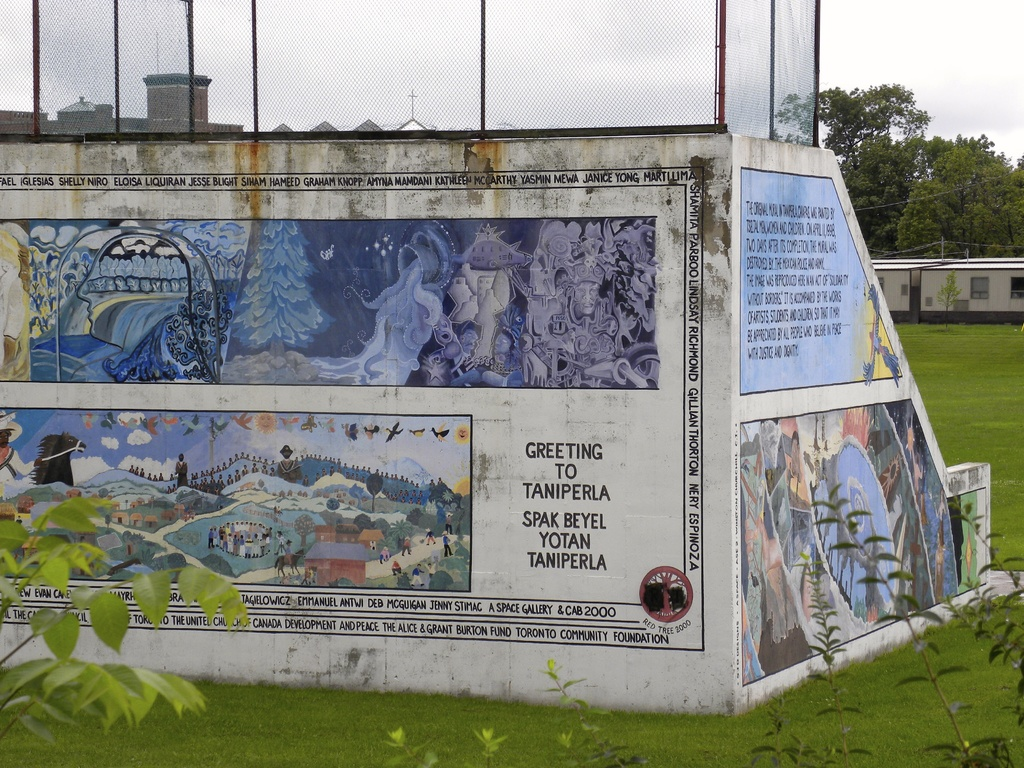Tree: (814, 78, 929, 263), (923, 124, 1001, 242)
